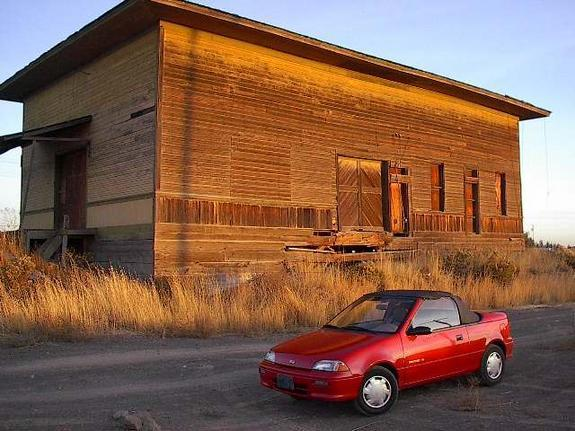car: (254, 273, 535, 422)
